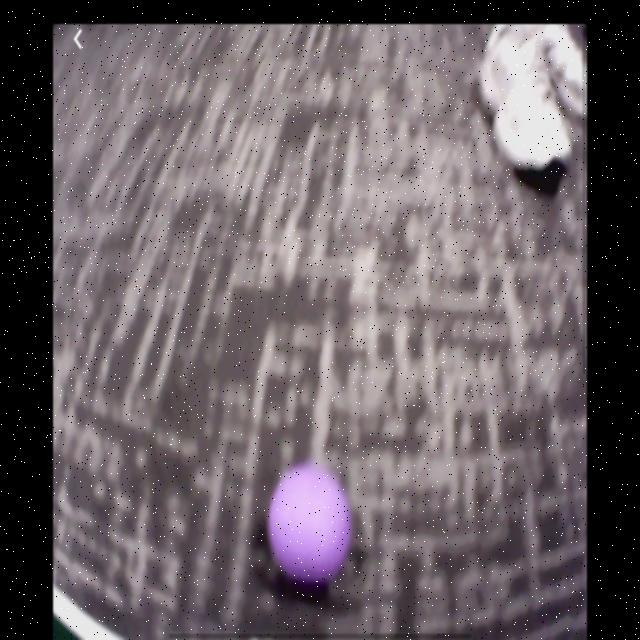ball: (267, 463, 354, 587)
